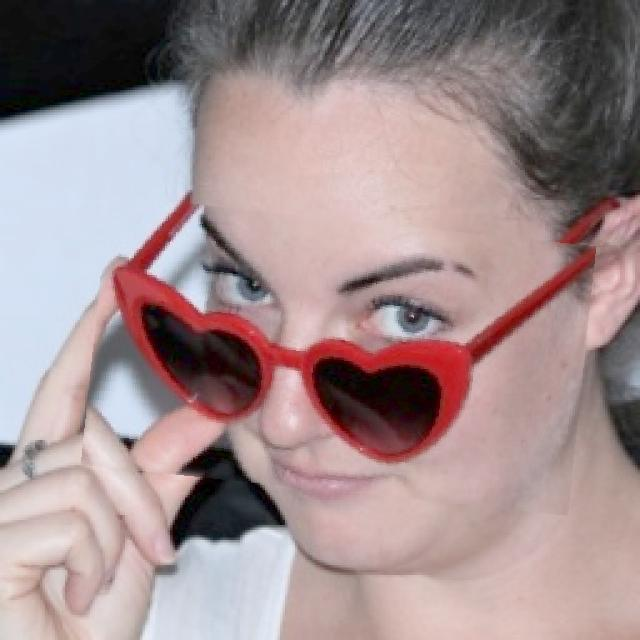glasses: (87, 208, 590, 503)
